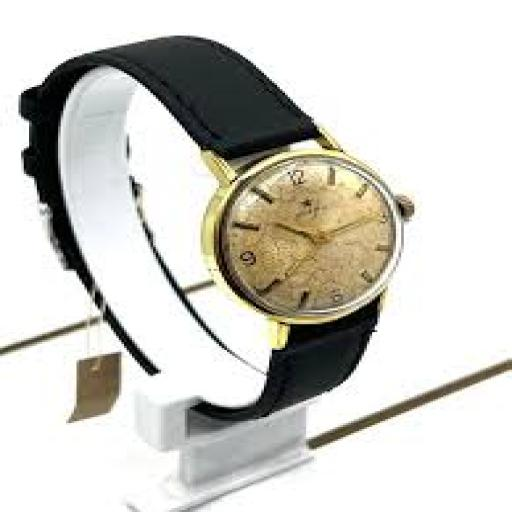KolSaati: (22, 19, 454, 418)
